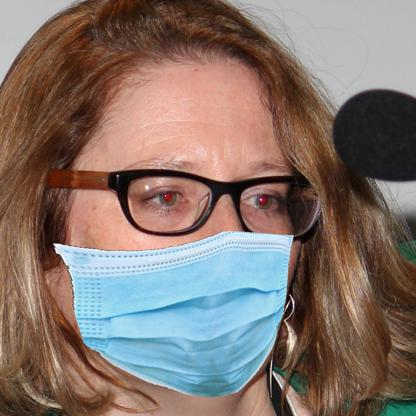mask: (46, 226, 305, 399)
